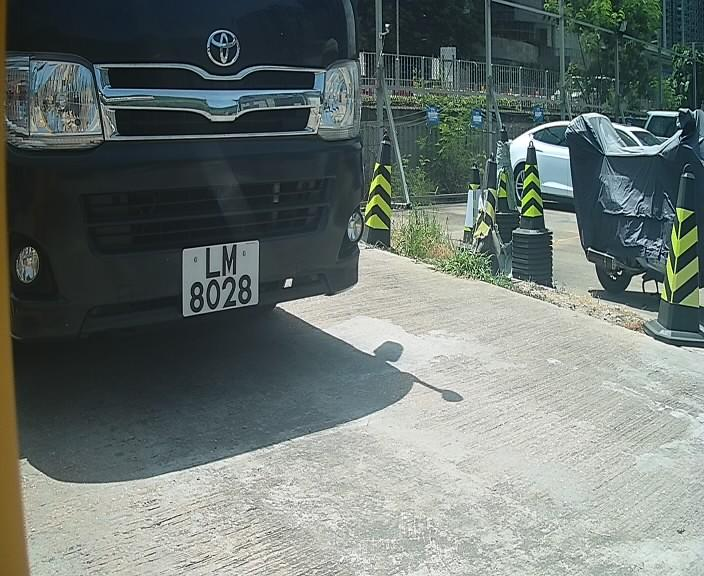License Plate: (173, 237, 268, 322)
